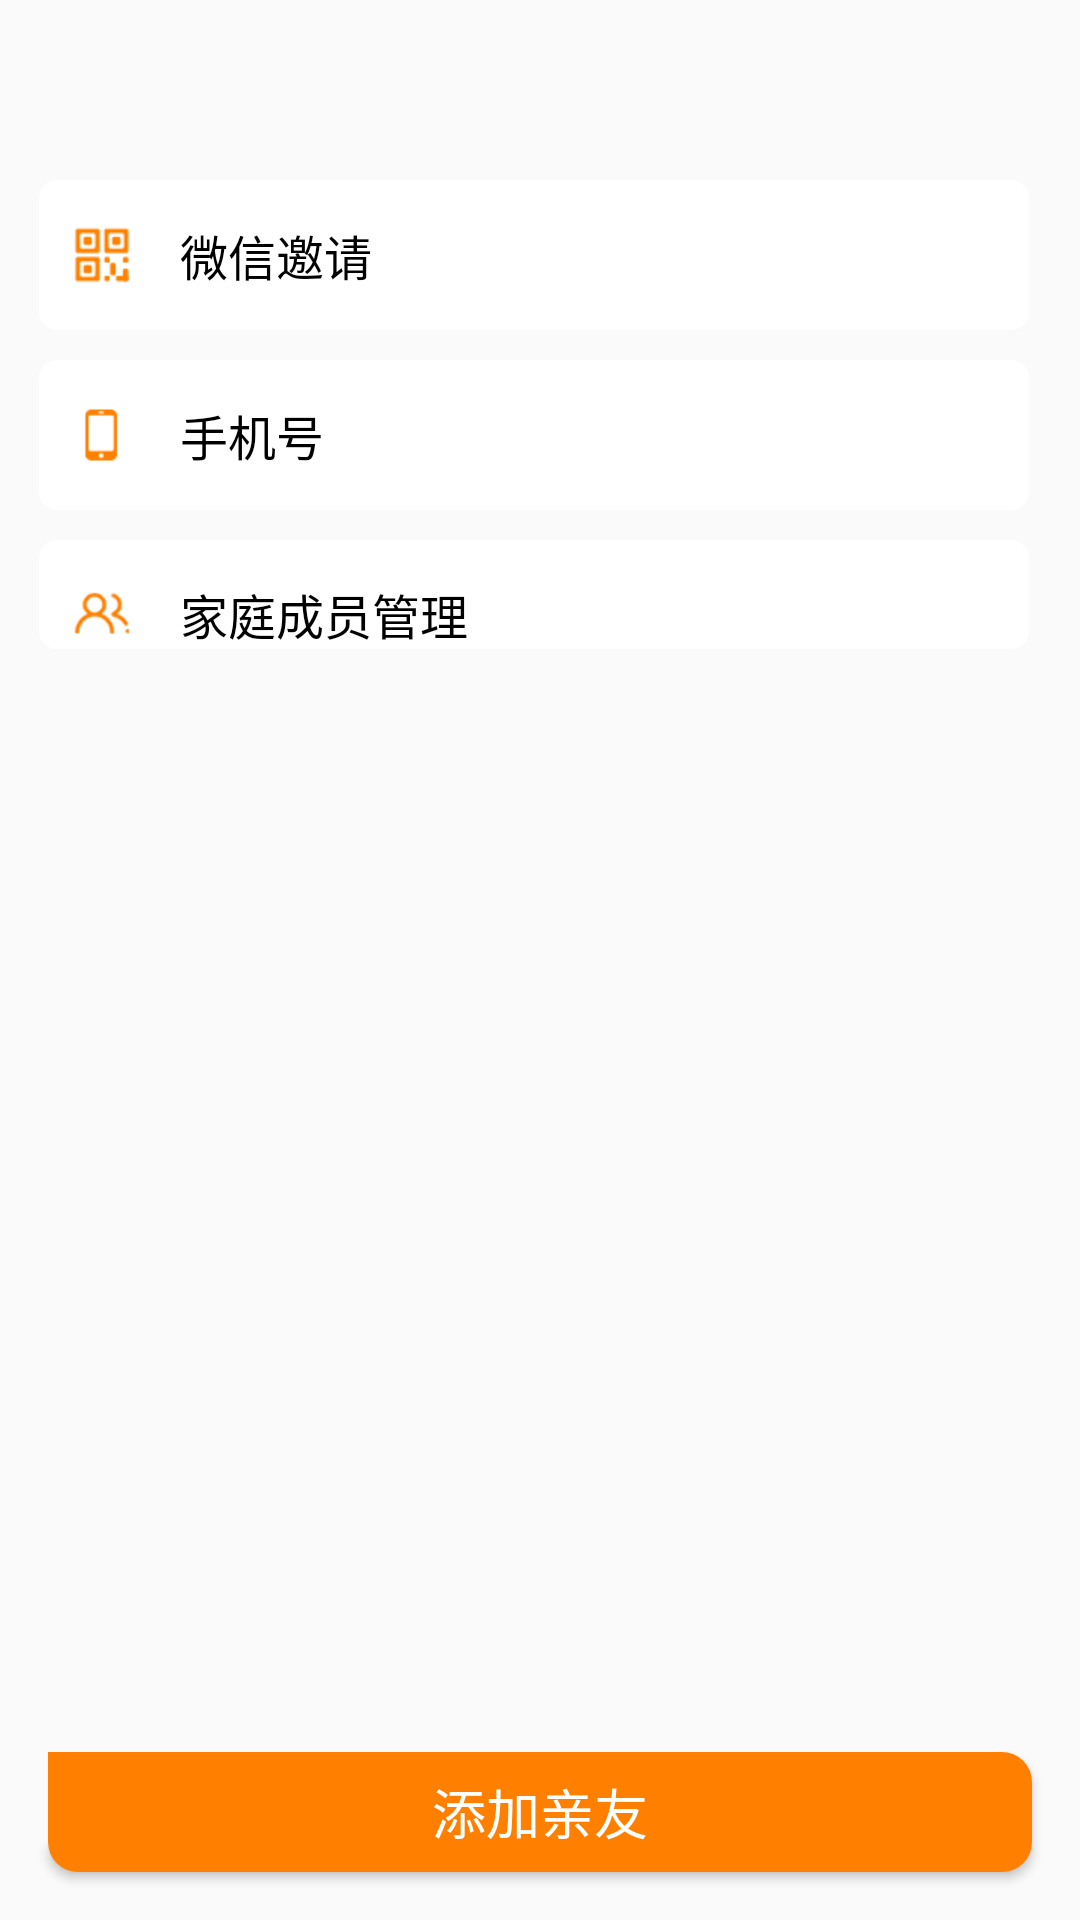

Screen size 1080 x 1920. Icon name, then its center in pixels as point (x, y):
bind mobile: point (101, 435)
code: point (102, 255)
fmaily: point (102, 613)
